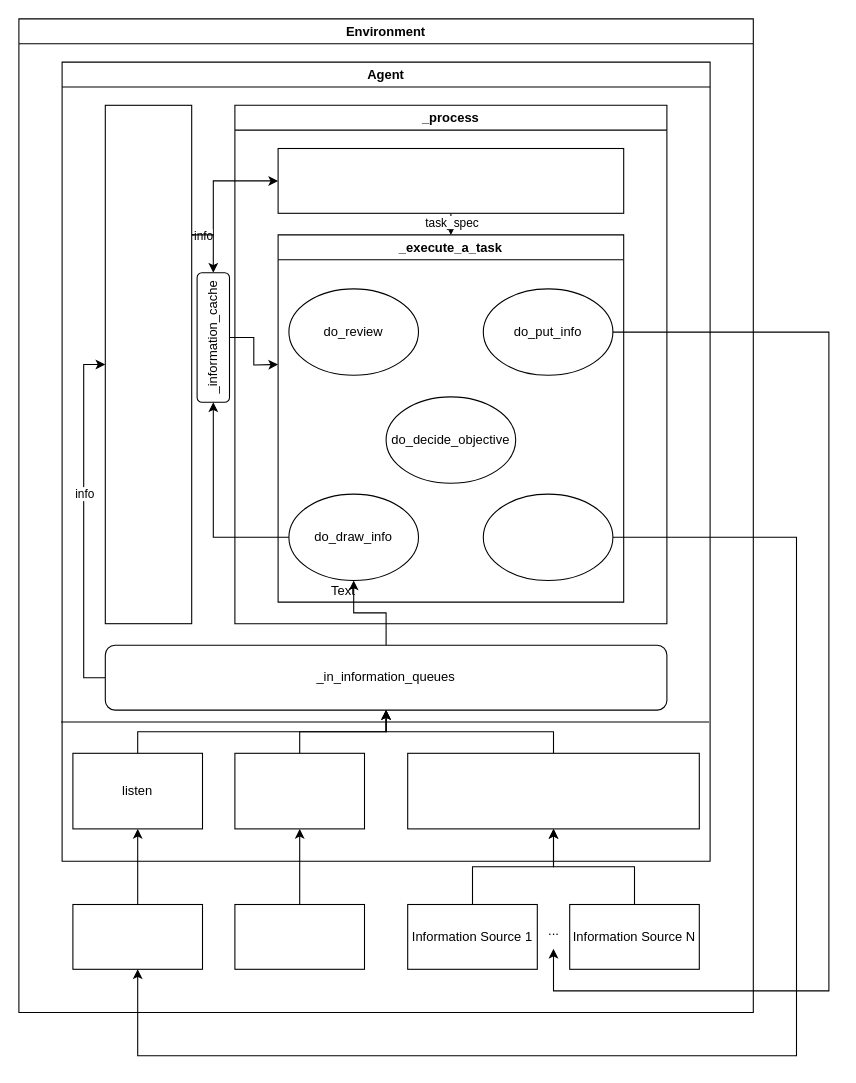
Image size: 856x1083. Some labels were removed from this diagram. Each missing label, with the centre of its shape:
"_monitor" belongs at point 148,364.
"_pick_a_task" belongs at point 450,180.
"_register_information_source" belongs at point 553,790.
"do_formulate_response" belongs at point 547,536.
"see" belongs at point 299,790.
"User" belongs at point 137,936.
"Visual Information" belongs at point 299,936.
